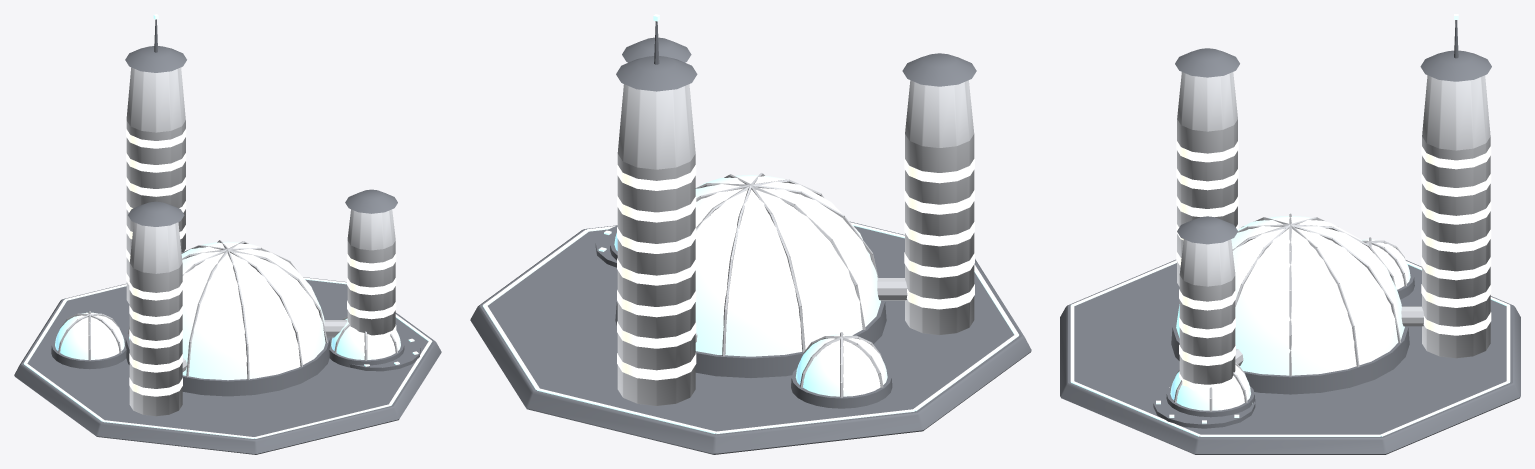
The model's file is city_a.glb.
3 renders of one model, left to right at view 1: azimuth 30°, elevation 25°; view 2: azimuth 150°, elevation 25°; view 3: azimuth 270°, elevation 25°, orthographic. The views are drawn at different scales.
Visible parts, largest first — view 1: CityA; view 2: CityA; view 3: CityA.
Part boxes in pixels (x1,y1,x2,y2): CityA: [14, 14, 441, 454]; CityA: [470, 14, 1031, 454]; CityA: [1060, 14, 1520, 454].
Bounding box in the file's own units: 36.12 × 29.67 × 36.12.
